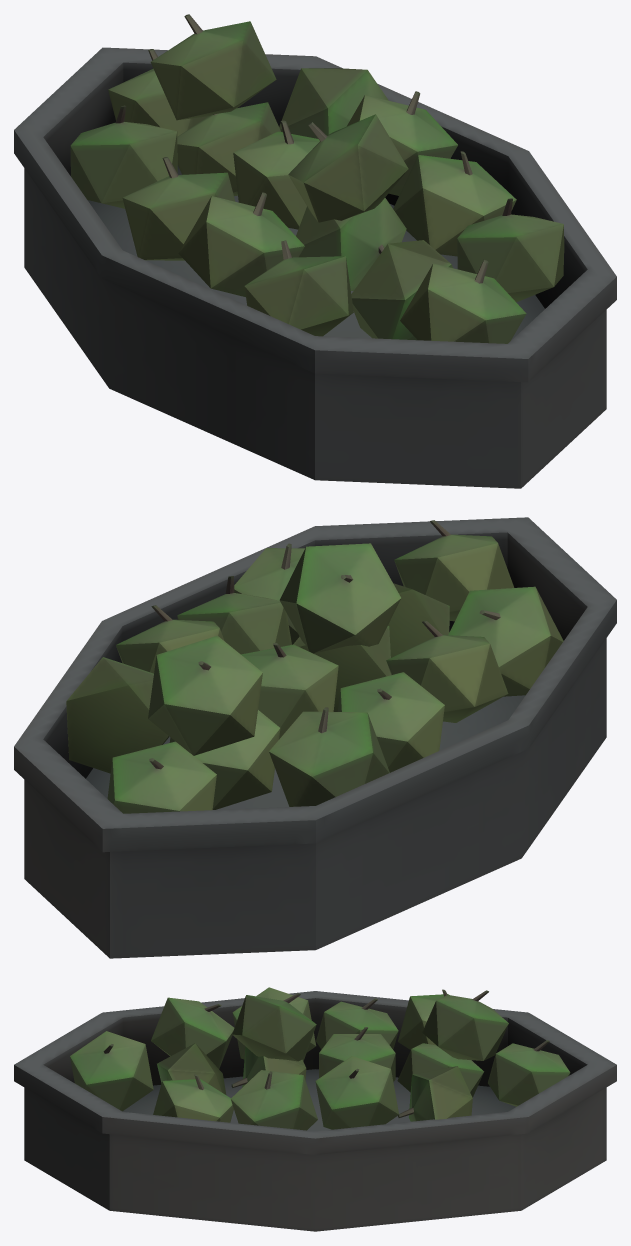
File: meyva1.fbx
3 views of the same model, one above another, from view 1: azimuth 30°, elevation 25°; view 2: azimuth 150°, elevation 25°; view 3: azimuth 270°, elevation 25° (orthographic). The views are drawn at different scales.
Parts seen in each view (by area): view 1: Circle.009; view 2: Circle.009; view 3: Circle.009.
Boxes of the visible parts, x1,y1,x2,y2 form: Circle.009: [14, 14, 616, 488]; Circle.009: [14, 517, 616, 958]; Circle.009: [14, 987, 616, 1231].
Bounding box in the file's own units: 46.6 × 24.67 × 80.44.
